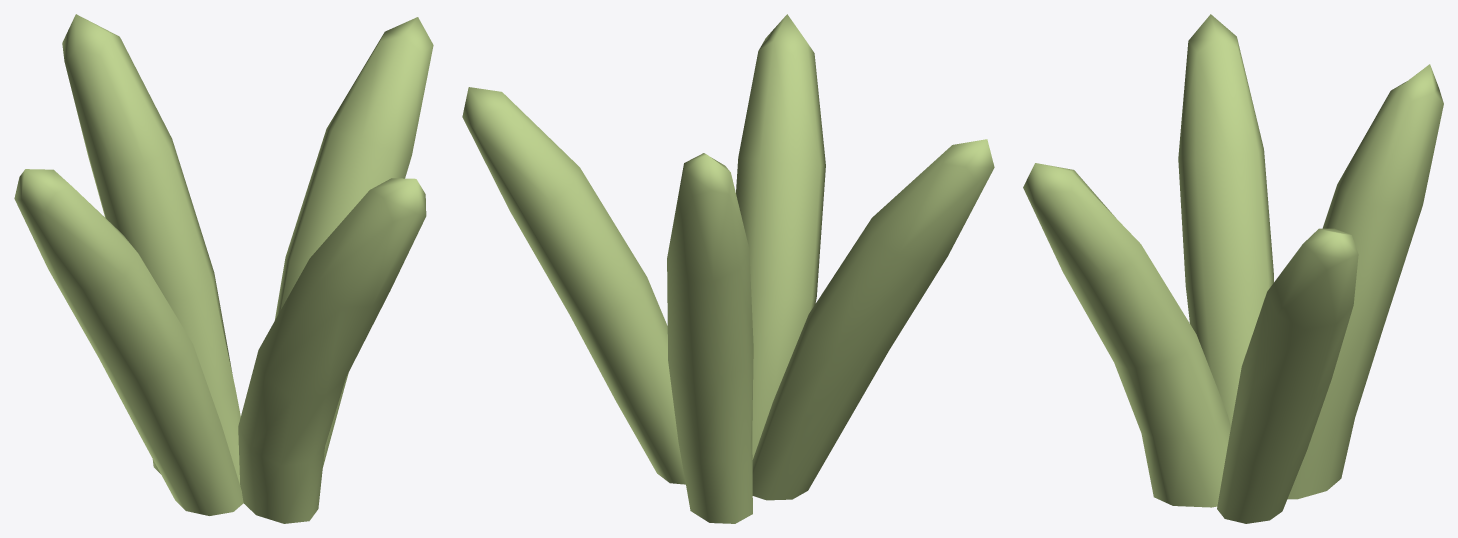
File: Grass_04.fbx
3 views of the same model, side by side, from view 1: azimuth 30°, elevation 25°; view 2: azimuth 150°, elevation 25°; view 3: azimuth 270°, elevation 25° (orthographic). The views are drawn at different scales.
Parts seen in each view (by area): view 1: polySurface1006; view 2: polySurface1006; view 3: polySurface1006.
Boxes of the visible parts, <box> form: polySurface1006: <box>14,14,433,523</box>; polySurface1006: <box>462,14,994,523</box>; polySurface1006: <box>1023,14,1443,523</box>.
Bounding box in the file's own units: 36.54 × 31.1 × 30.12.
